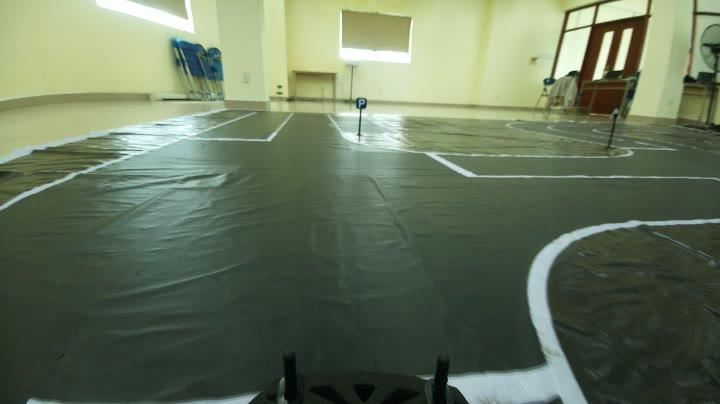parking: (353, 96, 372, 110)
